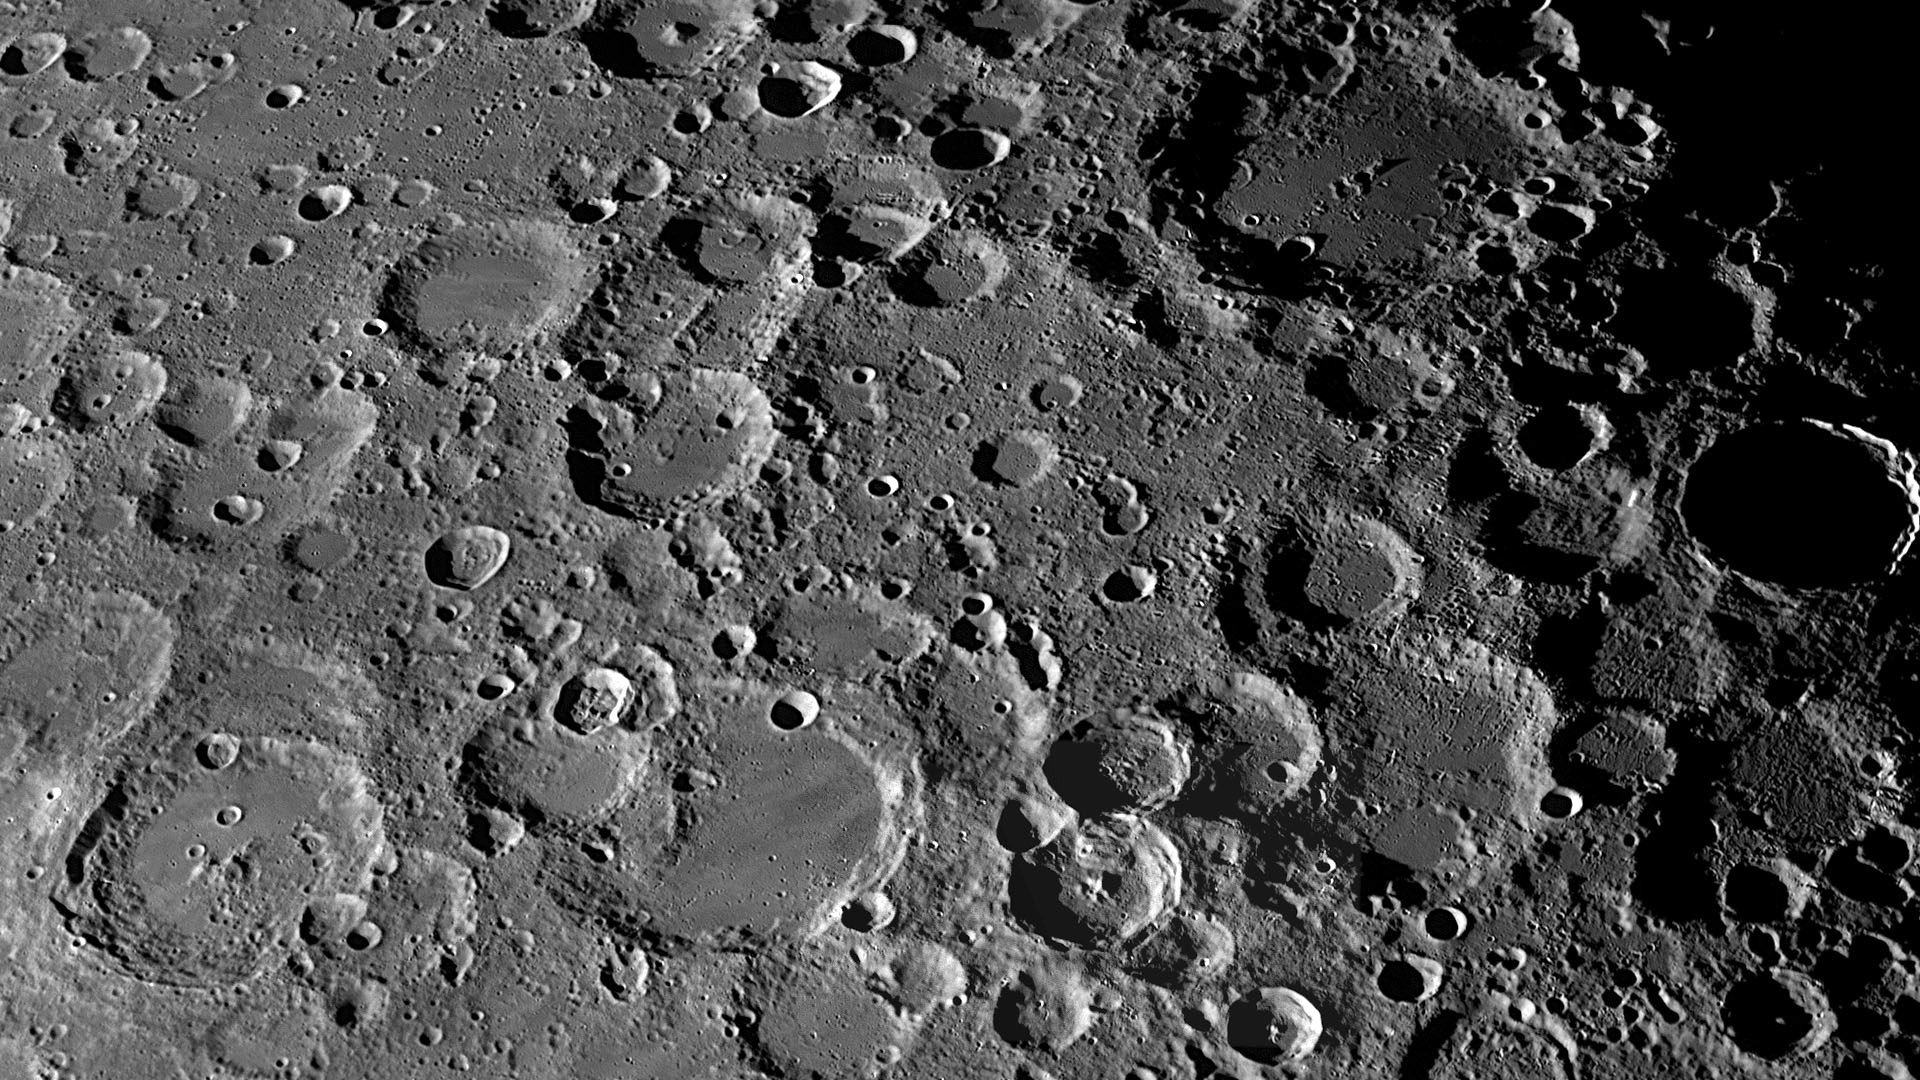crater: (32, 709, 419, 1025), (736, 678, 903, 785)
